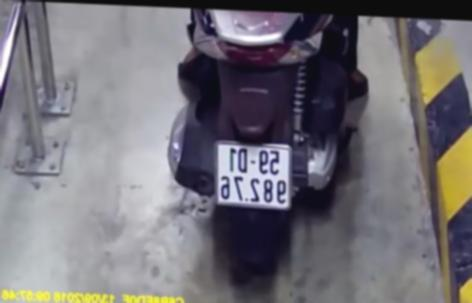License_Plate: (207, 136, 300, 217)
